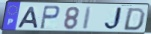8: (63, 6, 81, 30)
A: (16, 6, 40, 29)
D: (122, 8, 147, 32)
I: (82, 6, 94, 30)
J: (103, 7, 125, 32)
P: (39, 5, 61, 31)
